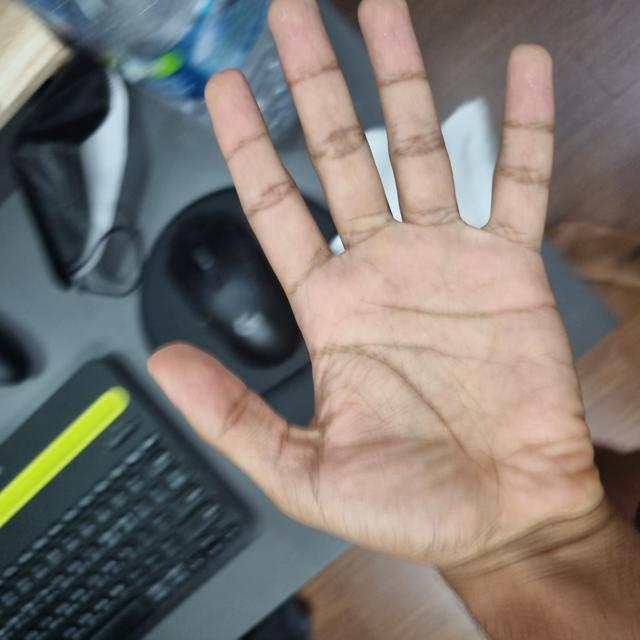Paper: (57, 156, 639, 621)
